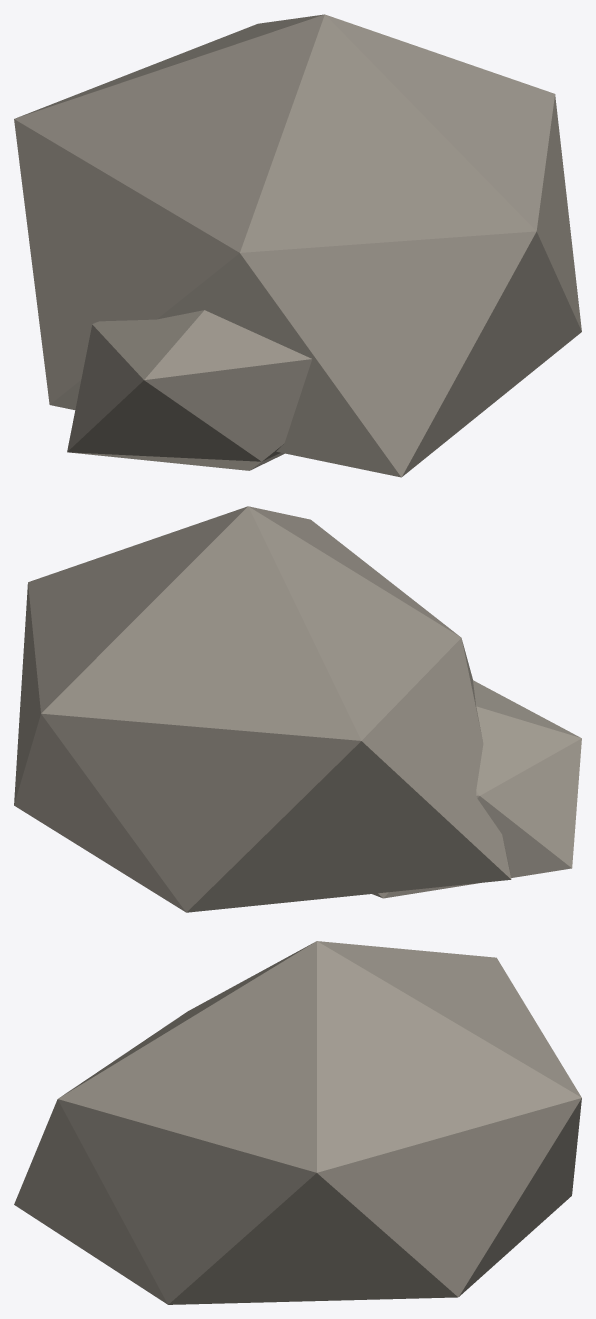
File: HS_LP_Rock_Large_01.fbx
3 renders of one model, top to bottom at view 1: azimuth 30°, elevation 25°; view 2: azimuth 150°, elevation 25°; view 3: azimuth 270°, elevation 25°, orthographic. The views are drawn at different scales.
Parts seen in each view (by area): view 1: HS_LP_Rock_Large_01; view 2: HS_LP_Rock_Large_01; view 3: HS_LP_Rock_Large_01.
Boxes of the visible parts, x1,y1,x2,y2 form: HS_LP_Rock_Large_01: (14, 14, 581, 477); HS_LP_Rock_Large_01: (14, 506, 581, 912); HS_LP_Rock_Large_01: (14, 941, 581, 1304).
Bounding box in the file's own units: 146 × 106 × 146.
